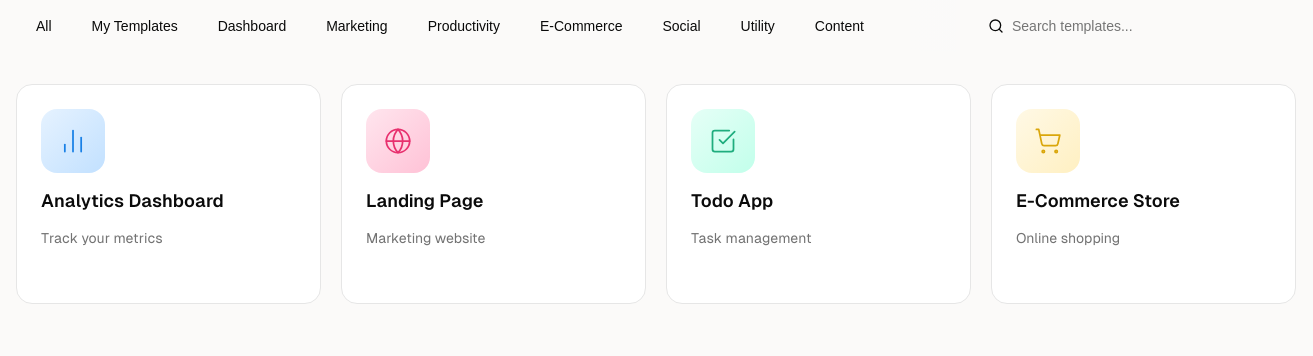
Scenario: TemplateGrid › should display empty state when no templates match search
Type "NonExistentTemplate" into the search field with placeholder "Search templates..." at (1136, 26), box [976,6,1296,46]
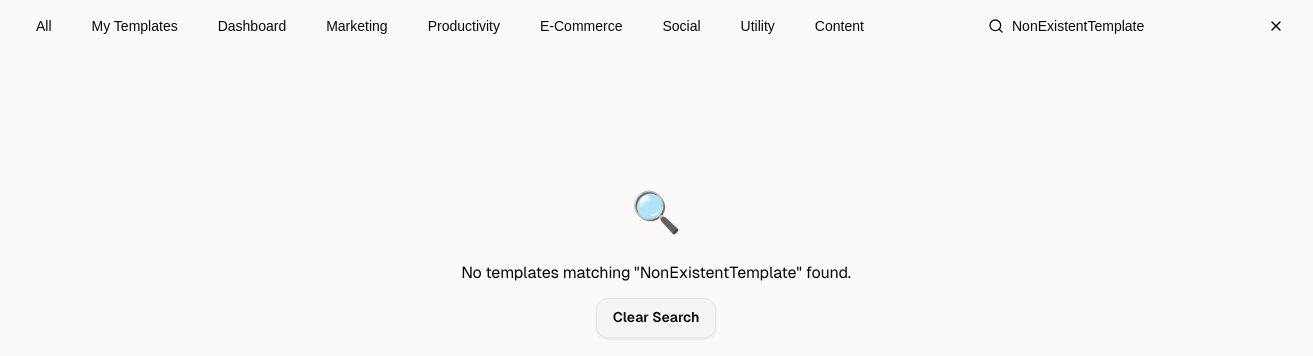
Expected: the text "No templates matching \"NonExistentTemplate\" found." is shown, [461,260,851,286]
Expected: the button "Clear Search" is shown, [596,298,716,338]
